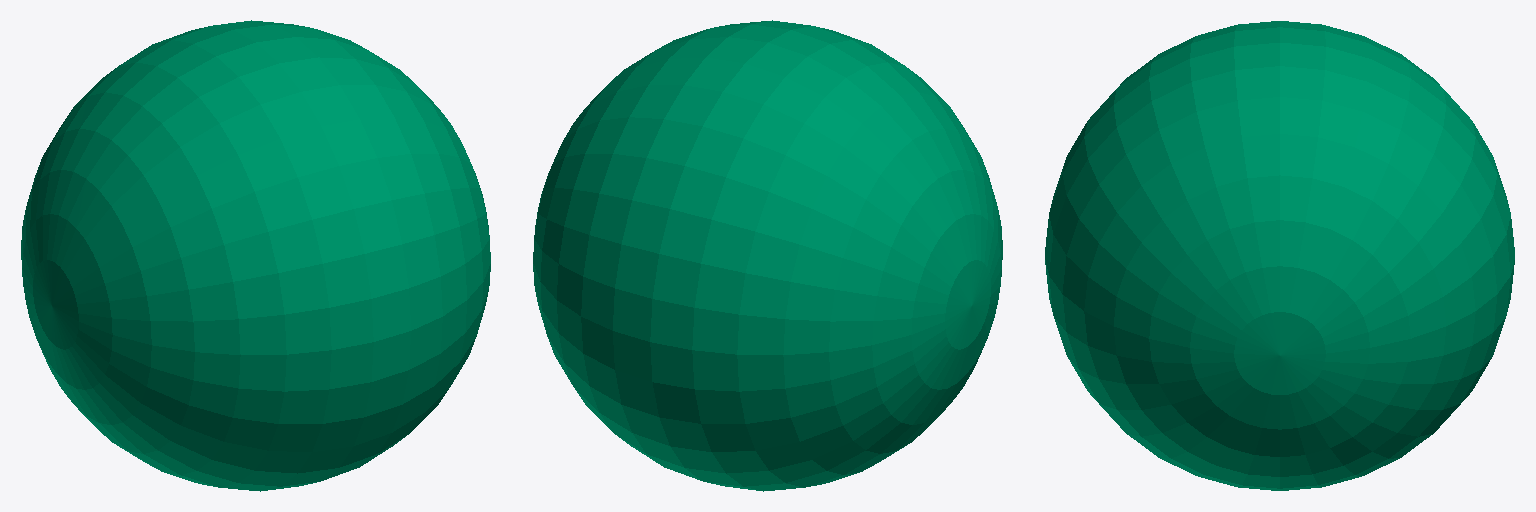
URDF robot description (LRMate):
<?xml version="1.0"?>
<robot name="LRMate">
	<material name="Yellow">
		<color rgba="1.0  1.0  0.0  1.0"/>
	</material>
	<material name="Black">
		<color rgba="0.0  0.0  0.0  1.0"/>
	</material>
	<material name="Gray">
		<color rgba="0.5  0.5  0.5  1.0"/>
	</material>
	<material name="Gray_2">
		<color rgba="1.0  1.0  1.0  1.0"/>
	</material>

	<link name="base">
		<inertial>
			<origin xyz="0.0  0.0  0.0" rpy="0.0  0.0  0.0"/>
			<mass value="0.0"/>
			<inertia ixx="0.0"  ixy="0.0"  ixz="0.0" iyy="0.0" iyz="0.0" izz="0.0" />
		</inertial>
		<visual name="base">
			<origin xyz="0.000   0.000   0.330" rpy="0.0  0.0  0.0"/>
			<geometry>
				<mesh filename="CAD/base.stl" scale="0.001   0.001   0.001"/>
			</geometry>
			<material name="Gray"/>
		</visual>
		<collision>
			<origin xyz="0.000   0.000   0.330" rpy="0.0  0.0  0.0"/>
			<geometry>
				<mesh filename="CAD/base.stl" scale="0.001   0.001   0.001"/>
			</geometry>
		</collision>
	</link>
	<joint name="joint_1" type="revolute">
		<origin xyz="0.000   0.000   0.330" rpy="0.0000000000000000    0.0000000000000000    0.0000000000000000"/>
		<parent link="base"/>
		<child link="link_1"/>
		<axis xyz="0 0 1"/>
		<limit effort="224.1470270270270646" lower="-3.1415926535897931" upper="3.1415926535897931" velocity="0.8726646259971648"/>
	</joint>
	<link name="link_1">
		<inertial>
			<origin xyz="0.0185909590000000    0.0033700950000000   -0.0770907100000000" rpy="-1.5707963267948966    0.0000000000000000    0.0000000000000000"/>
			<mass value="2.3984700000000001"/>
			<inertia ixx="0.0233179728630000"  ixy="0.0000000000000000"  ixz="0.0000000000000000" iyy="0.0193776178710000" iyz="0.0000000000000000" izz="0.0139141526340000" />
		</inertial>
		<visual name="link_1">
			<origin xyz="0.050   0.000   0.000" rpy="-1.5707963267948966    0.0000000000000000    0.0000000000000000"/>
			<geometry>
				<mesh filename="CAD/link1.stl" scale="0.001   0.001   0.001"/>
			</geometry>
			<material name="Yellow"/>
		</visual>
		<collision>
			<origin xyz="0.050   0.000   0.000" rpy="-1.5707963267948966    0.0000000000000000    0.0000000000000000"/>
			<geometry>
				<mesh filename="CAD/link1.stl" scale="0.001   0.001   0.001"/>
			</geometry>
		</collision>
	</link>
	<joint name="joint_2" type="revolute">
		<origin xyz="0.050   0.000   0.000" rpy="-1.5707963267948966    0.0000000000000000    0.0000000000000000"/>
		<parent link="link_1"/>
		<child link="link_2"/>
		<axis xyz="0 0 1"/>
		<limit effort="236.6760000000000161" lower="-3.1415926535897931" upper="3.1415926535897931" velocity="0.8726646259971648"/>
	</joint>
	<link name="link_2">
		<inertial>
			<origin xyz="-0.0071079890000000   -0.1326139250000000    0.0247800790000000" rpy="3.1415926535897931    0.0000000000000000   -1.5707963267948966"/>
			<mass value="7.8018689999999999"/>
			<inertia ixx="0.0328971739050000"  ixy="0.0000000000000000"  ixz="0.0000000000000000" iyy="0.2070365793270000" iyz="0.0000000000000000" izz="0.1883991938960000" />
		</inertial>
		<visual name="link_2">
			<origin xyz="0.000  -0.440   0.000" rpy="3.1415926535897931    0.0000000000000000   -1.5707963267948966"/>
			<geometry>
				<mesh filename="CAD/link2.stl" scale="0.001   0.001   0.001"/>
			</geometry>
			<material name="Yellow"/>
		</visual>
		<collision>
			<origin xyz="0.000  -0.440   0.000" rpy="3.1415926535897931    0.0000000000000000   -1.5707963267948966"/>
			<geometry>
				<mesh filename="CAD/link2.stl" scale="0.001   0.001   0.001"/>
			</geometry>
		</collision>
	</link>
	<joint name="joint_3" type="revolute">
		<origin xyz="0.000  -0.440   0.000" rpy="3.1415926535897931    0.0000000000000000   -1.5707963267948966"/>
		<parent link="link_2"/>
		<child link="link_3"/>
		<axis xyz="0 0 1"/>
		<limit effort="94.9241379310344939" lower="-3.1415926535897931" upper="3.1415926535897931" velocity="0.8726646259971648"/>
	</joint>
	<link name="link_3">
		<inertial>
			<origin xyz="0.0057931330000000   -0.0059066300000000   -0.0207324280000000" rpy="-1.5707963267948966    0.0000000000000000    0.0000000000000000"/>
			<mass value="2.9847210000000000"/>
			<inertia ixx="0.0081019474240000"  ixy="0.0000000000000000"  ixz="0.0000000000000000" iyy="0.0068697082660000" iyz="0.0000000000000000" izz="0.0079818513480000" />
		</inertial>
		<visual name="link_3">
			<origin xyz="0.035   0.000   0.000" rpy="-1.5707963267948966    0.0000000000000000    0.0000000000000000"/>
			<geometry>
				<mesh filename="CAD/link3.stl" scale="0.001   0.001   0.001"/>
			</geometry>
			<material name="Yellow"/>
		</visual>
		<collision>
			<origin xyz="0.035   0.000   0.000" rpy="-1.5707963267948966    0.0000000000000000    0.0000000000000000"/>
			<geometry>
				<mesh filename="CAD/link3.stl" scale="0.001   0.001   0.001"/>
			</geometry>
		</collision>
	</link>
	<joint name="joint_4" type="revolute">
		<origin xyz="0.035   0.000   0.000" rpy="-1.5707963267948966    0.0000000000000000    0.0000000000000000"/>
		<parent link="link_3"/>
		<child link="link_4"/>
		<axis xyz="0 0 1"/>
		<limit effort="23.8998260869565229" lower="-3.1415926535897931" upper="3.1415926535897931" velocity="0.8726646259971648"/>
	</joint>
	<link name="link_4">
		<inertial>
			<origin xyz="-0.0002457140000000    0.0028224150000000   -0.2060611280000000" rpy="1.5707963267948966    0.0000000000000000    0.0000000000000000"/>
			<mass value="4.1441780000000001"/>
			<inertia ixx="0.0529101059260000"  ixy="0.0000000000000000"  ixz="0.0000000000000000" iyy="0.0057046189630000" iyz="0.0000000000000000" izz="0.0531509714450000" />
		</inertial>
		<visual name="link_4">
			<origin xyz="0.000   0.000  -0.420" rpy="1.5707963267948966    0.0000000000000000    0.0000000000000000"/>
			<geometry>
				<mesh filename="CAD/link4.stl" scale="0.001   0.001   0.001"/>
			</geometry>
			<material name="Yellow"/>
		</visual>
		<collision>
			<origin xyz="0.000   0.000  -0.420" rpy="1.5707963267948966    0.0000000000000000    0.0000000000000000"/>
			<geometry>
				<mesh filename="CAD/link4.stl" scale="0.001   0.001   0.001"/>
			</geometry>
		</collision>
	</link>
	<joint name="joint_5" type="revolute">
		<origin xyz="0.000   0.000  -0.420" rpy="1.5707963267948966    0.0000000000000000    0.0000000000000000"/>
		<parent link="link_4"/>
		<child link="link_5"/>
		<axis xyz="0 0 1"/>
		<limit effort="13.8166666666666664" lower="-3.1415926535897931" upper="3.1415926535897931" velocity="0.8726646259971648"/>
	</joint>
	<link name="link_5">
		<inertial>
			<origin xyz="0.0000480440000000   -0.0273839680000000   -0.0044381510000000" rpy="-1.5707963267948966    0.0000000000000000    0.0000000000000000"/>
			<mass value="1.7004200000000000"/>
			<inertia ixx="0.0024795564500000"  ixy="0.0000000000000000"  ixz="0.0000000000000000" iyy="0.0024375453070000" iyz="0.0000000000000000" izz="0.0012003431970000" />
		</inertial>
		<visual name="link_5">
			<origin xyz="0.000   0.000   0.000" rpy="-1.5707963267948966    0.0000000000000000    0.0000000000000000"/>
			<geometry>
				<mesh filename="CAD/link5.stl" scale="0.001   0.001   0.001"/>
			</geometry>
			<material name="Yellow"/>
		</visual>
		<collision>
			<origin xyz="0.000   0.000   0.000" rpy="-1.5707963267948966    0.0000000000000000    0.0000000000000000"/>
			<geometry>
				<mesh filename="CAD/link5.stl" scale="0.001   0.001   0.001"/>
			</geometry>
		</collision>
	</link>
	<joint name="joint_6" type="revolute">
		<origin xyz="0.0   0.0   0.0" rpy="-1.5707963267948966    0.0000000000000000    0.0000000000000000"/>
		<parent link="link_5"/>
		<child link="link_6"/>
		<axis xyz="0 0 1"/>
		<limit effort="6.8606896551724139" lower="-3.1415926535897931" upper="3.1415926535897931" velocity="0.8726646259971648"/>
	</joint>
	<link name="link_6">
		<inertial>
			<origin xyz="-0.0001200000000000    0.0000000000000000   -0.0705300000000000" rpy="3.1415926535897931    0.0000000000000000    0.0000000000000000"/>
			<mass value="0.1700000000000000"/>
			<inertia ixx="0.0000318000000000"  ixy="0.0000000000000000"  ixz="0.0000000000000000" iyy="0.0000315000000000" iyz="0.0000000000000000" izz="0.0000542000000000" />
		</inertial>
		<visual name="link_6">
			<origin xyz="0.000   0.000  -0.080" rpy="3.1415926535897931    0.0000000000000000    0.0000000000000000"/>
			<geometry>
				<mesh filename="CAD/link6_simple.stl" scale="0.001   0.001   0.001"/>
			</geometry>
			<material name="Black"/>
		</visual>
		<collision>
			<origin xyz="0.000   0.000  -0.080" rpy="3.1415926535897931    0.0000000000000000    0.0000000000000000"/>
			<geometry>
				<mesh filename="CAD/link6_simple.stl" scale="0.001   0.001   0.001"/>
			</geometry>
		</collision>
	</link>


	<!-- gripper -->
	<link name="gripper_hand">
		<inertial>
			<origin rpy="0 0 0" xyz="0 0 0.04"/>
			<mass value=".81"/>
			<inertia ixx="0.1" ixy="0" ixz="0" iyy="0.1" iyz="0" izz="0.1"/>
		</inertial>
		<visual>
			<geometry>
				<mesh filename="CAD/gripper_2/visual/sensor_hand.stl" scale="0.001 0.001 0.001"/>
			</geometry>
			<material name="Gray_2"/>
		</visual>
		<collision>
		<geometry>
			<mesh filename="CAD/gripper_2/collision/sensor_hand.stl" scale="0.001 0.001 0.001"/>
		</geometry>
		<material name="Gray_2"/>
		</collision>
  	</link>

  	<link name="gripper_leftfinger">
		<contact>
			<friction_anchor/>
			<stiffness value="30000.0"/>
			<damping value="1000.0"/>
			<spinning_friction value="0.1"/>
			<rolling_friction value="0.1"/>
			<lateral_friction value="1.0"/>
		</contact>
		<inertial>
			<origin rpy="0 0 0" xyz="0 0.01 0.02"/>
			<mass value="0.1"/>
			<inertia ixx="0.1" ixy="0" ixz="0" iyy="0.1" iyz="0" izz="0.1"/>
		</inertial>
		<visual>
			<geometry>
				<mesh filename="CAD/gripper_2/visual/finger.stl" scale="0.001 0.001 0.001"/>
			</geometry>
			<material name="Gray_2"/>
		</visual>
		<collision>
			<geometry>
				<mesh filename="CAD/gripper_2/collision/finger.stl" scale="0.001 0.001 0.001"/>
			</geometry>
			<material name="Gray_2"/>
		</collision>
	</link>

  	<link name="gripper_rightfinger">
    	<contact>
			<friction_anchor/>
			<stiffness value="30000.0"/>
			<damping value="1000.0"/>
			<spinning_friction value="0.1"/>
			<rolling_friction value="0.1"/>
			<lateral_friction value="1.0"/>
		</contact>

  		<inertial>
			<origin rpy="0 0 0" xyz="0 -0.01 0.02"/>
			<mass value="0.1"/>
			<inertia ixx="0.1" ixy="0" ixz="0" iyy="0.1" iyz="0" izz="0.1"/>
		</inertial>
		<visual>
			<origin rpy="0 0 3.14159265359" xyz="0 0 0"/>
			<geometry>
				<mesh filename="CAD/gripper_2/visual/finger.stl" scale="0.001 0.001 0.001"/>
			</geometry>
			<material name="Gray_2"/>
		</visual>
		<collision>
			<origin rpy="0 0 3.14159265359" xyz="0 0 0"/>
			<geometry>
				<mesh filename="CAD/gripper_2/collision/finger.stl" scale="0.001 0.001 0.001"/>
			</geometry>
			<material name="Gray_2"/>
		</collision>
  	</link>

	<joint name="joint_6-gripper" type="fixed">
        <origin rpy="1.5707963267948966 0.0 1.5707963267948966" xyz="0 0 -0.078"/>
        <parent link="link_6"/>
        <child link="gripper_hand"/>
    </joint>

	<joint name="gripper_finger_joint1" type="prismatic">
		<parent link="gripper_hand"/>
		<child link="gripper_leftfinger"/>
		<origin rpy="0 -1.5707963267948966 0" xyz="-0.025 -0.150 0"/>
		<axis xyz="0 0 -1"/>
		<limit effort="20" lower="0.0" upper="0.04" velocity="0.2"/>
	</joint>


	<joint name="gripper_finger_joint2" type="prismatic">
		<parent link="gripper_hand"/>
		<child link="gripper_rightfinger"/>
		<origin rpy="3.14159265359 -1.5707963267948966 0" xyz="0.025 -0.150 0"/>
		<axis xyz="0 0 -1"/>
		<limit effort="20" lower="0.0" upper="0.04" velocity="0.2"/>
		<mimic joint="gripper_finger_joint1"/>
	</joint>

	<!-- grasp target -->
	<link name="grasptarget">
     	<inertial>
      		<origin rpy="0 0 0" xyz="0 0 0"/>
       		<mass value="0.001"/>
       		<inertia ixx="0.1" ixy="0" ixz="0" iyy="0.1" iyz="0" izz="0.1"/>
    	</inertial>
    	<visual>
      		<geometry>
        		<sphere radius="0.003"/>
      		</geometry>
      		<color rgba="1. 0. 0. 1.0"/>
    	</visual>
   </link>

	<joint name="lrmate_grasptarget_hand" type="fixed">
		<parent link="gripper_hand"/>
		<child link="grasptarget"/>
		<origin rpy="1.5707963267948966 -1.5707963267948966 0" xyz="0 -0.24 0"/>
	</joint>
    
</robot>

--- Facts derived from the render (not from the file) ---
The picture shows the robot from 3 angles, left to right: view 1: azimuth 30°, elevation 25°; view 2: azimuth 150°, elevation 25°; view 3: azimuth 270°, elevation 25°; orthographic projection.
Model LRMate with 11 links and 10 joints (6 revolute, 2 prismatic, 2 fixed), rooted at base, posed every joint at zero.
Visible links, largest first — view 1: grasptarget; view 2: grasptarget; view 3: grasptarget.
Boxes of the visible links, x1,y1,x2,y2 form: grasptarget: (21, 20, 490, 491); grasptarget: (533, 20, 1002, 491); grasptarget: (1045, 21, 1514, 490).
Size in the robot's own frame: 0.006 by 0.006 by 0.006 metres.
0 mesh visuals loaded from 9 distinct referenced files (none loaded); not drawn: 10 (reference not matched to a file when rendering).